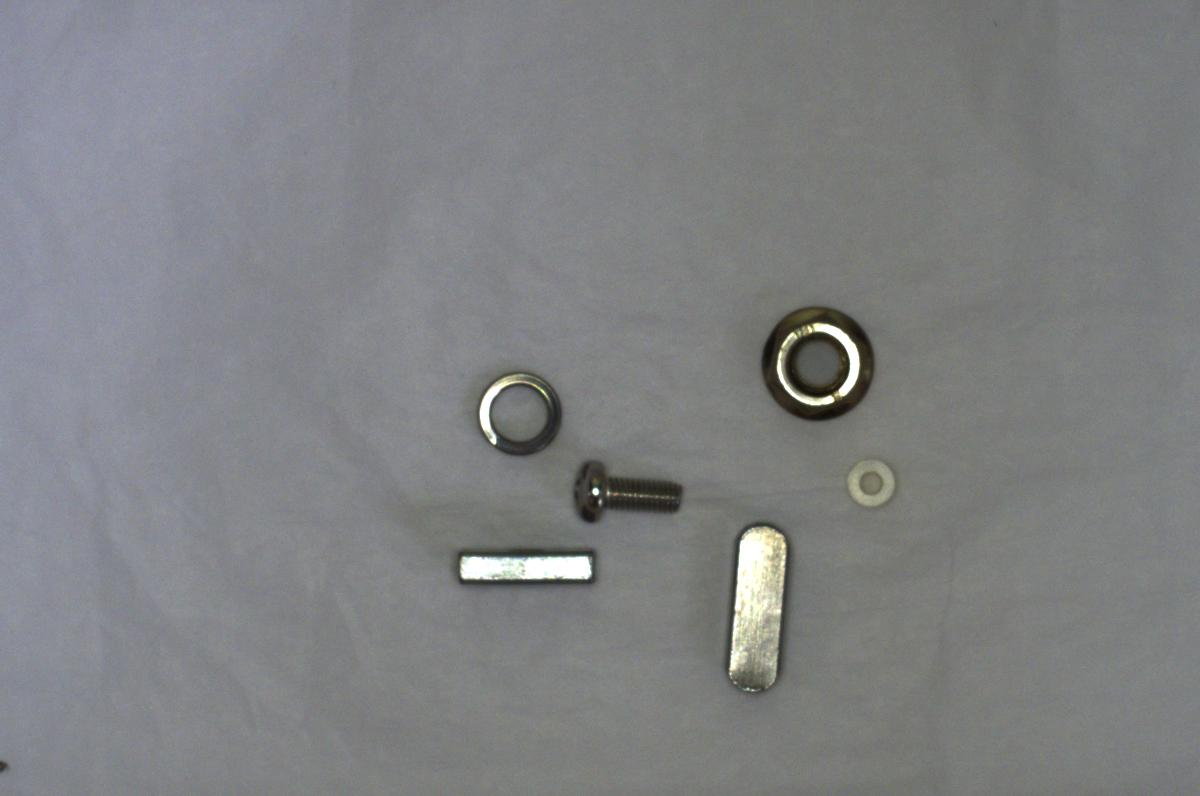Flange nut: (751, 296, 891, 426)
Keybar: (719, 519, 794, 694)
Plastic cushion pillar: (839, 450, 900, 522)
Rectangular nut: (448, 539, 604, 596)
Round head screw: (566, 456, 685, 526)
Spring washer: (461, 366, 572, 461)
